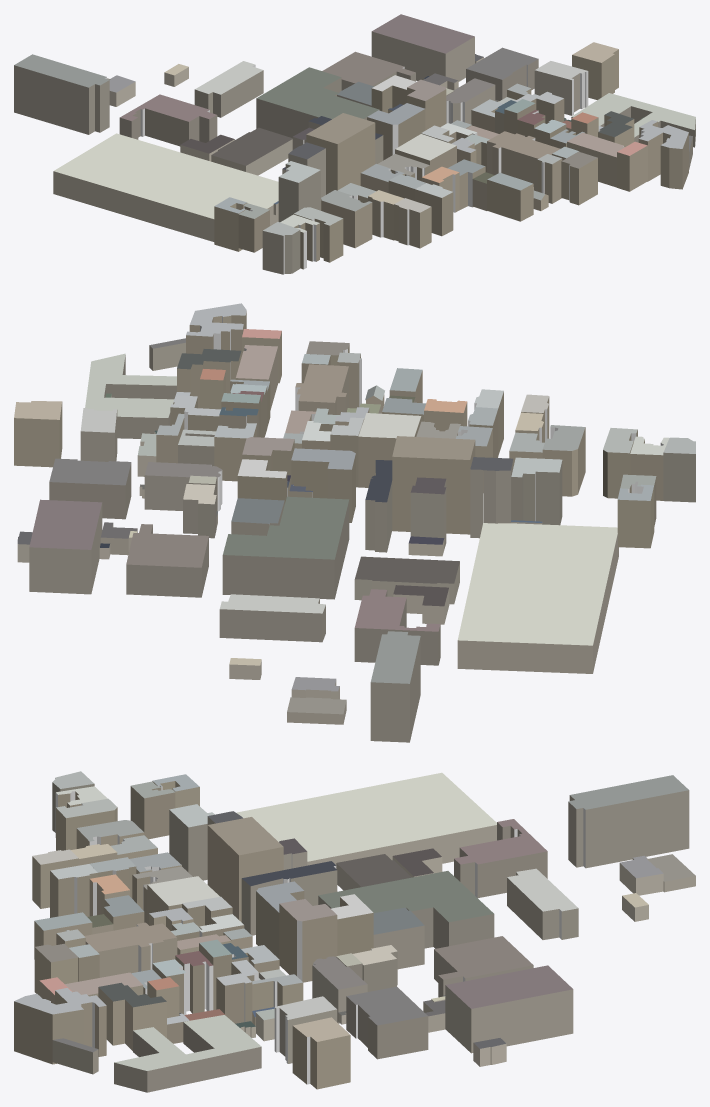
3 renders of one model, top to bottom at view 1: azimuth 30°, elevation 25°; view 2: azimuth 150°, elevation 25°; view 3: azimuth 270°, elevation 25°, orthographic. The views are drawn at different scales.
Parts seen in each view (by area): view 1: tuile; view 2: tuile; view 3: tuile.
Part boxes in pixels (x1=…): tuile: x1=14, y1=14, x2=695, y2=274; tuile: x1=14, y1=303, x2=695, y2=742; tuile: x1=14, y1=771, x2=695, y2=1092.
Bounding box in the file's own units: 299 × 39.9 × 273.
